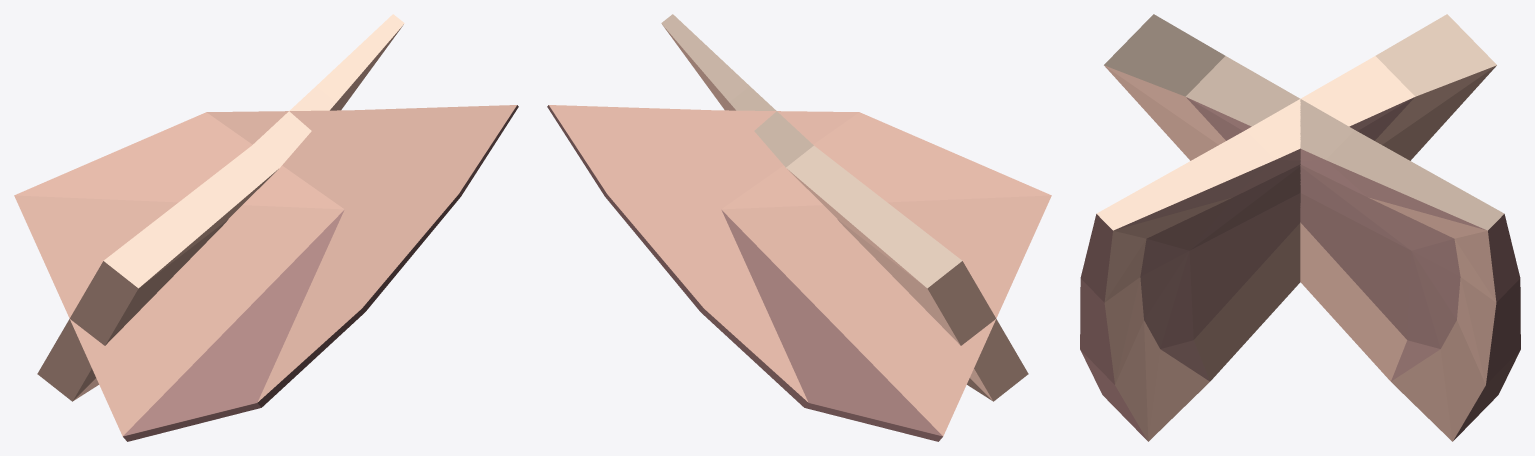
File: gn_swept.glb
3 views of the same model, side by side, from view 1: azimuth 30°, elevation 25°; view 2: azimuth 150°, elevation 25°; view 3: azimuth 270°, elevation 25° (orthographic). The views are drawn at different scales.
Parts seen in each view (by area): view 1: Ear_R, Ear_L; view 2: Ear_L, Ear_R; view 3: Ear_L, Ear_R.
Part boxes in pixels (x1,y1,x2,y2): Ear_R: [14, 105, 518, 441]; Ear_L: [37, 14, 404, 401]; Ear_L: [547, 105, 1051, 441]; Ear_R: [661, 14, 1028, 401]; Ear_L: [1104, 14, 1520, 441]; Ear_R: [1080, 14, 1496, 441].
Size of the model in its own units: 0.0933 by 0.061 by 0.0538.
Materials: 1 (1 with a texture image).
